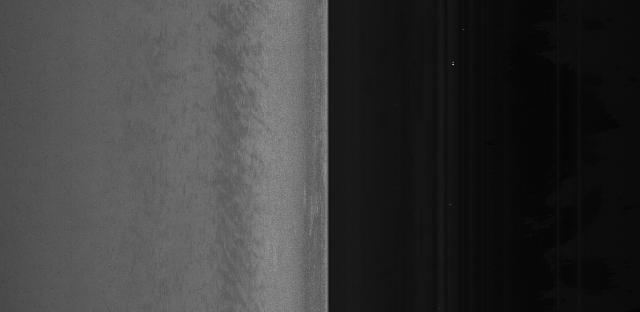silk_spot: (228, 122, 276, 192)
